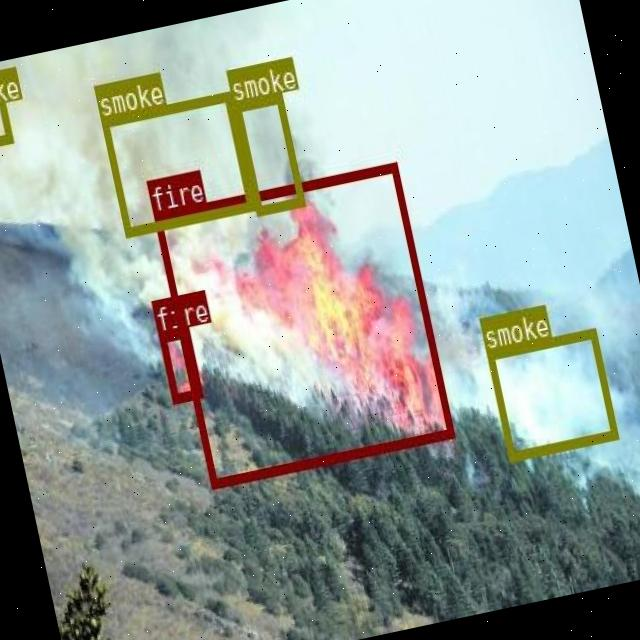fire: (152, 160, 452, 488), (156, 327, 201, 402)
smoke: (100, 90, 252, 234), (484, 326, 616, 459), (232, 90, 304, 214)
